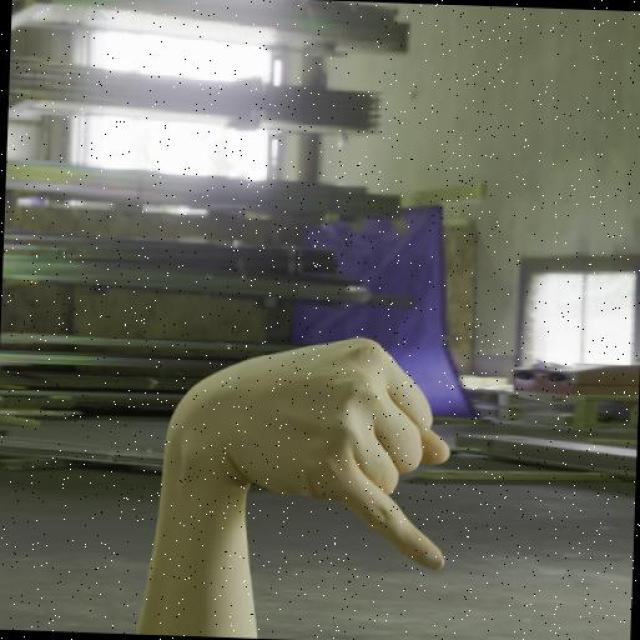J: (151, 324, 459, 574)
